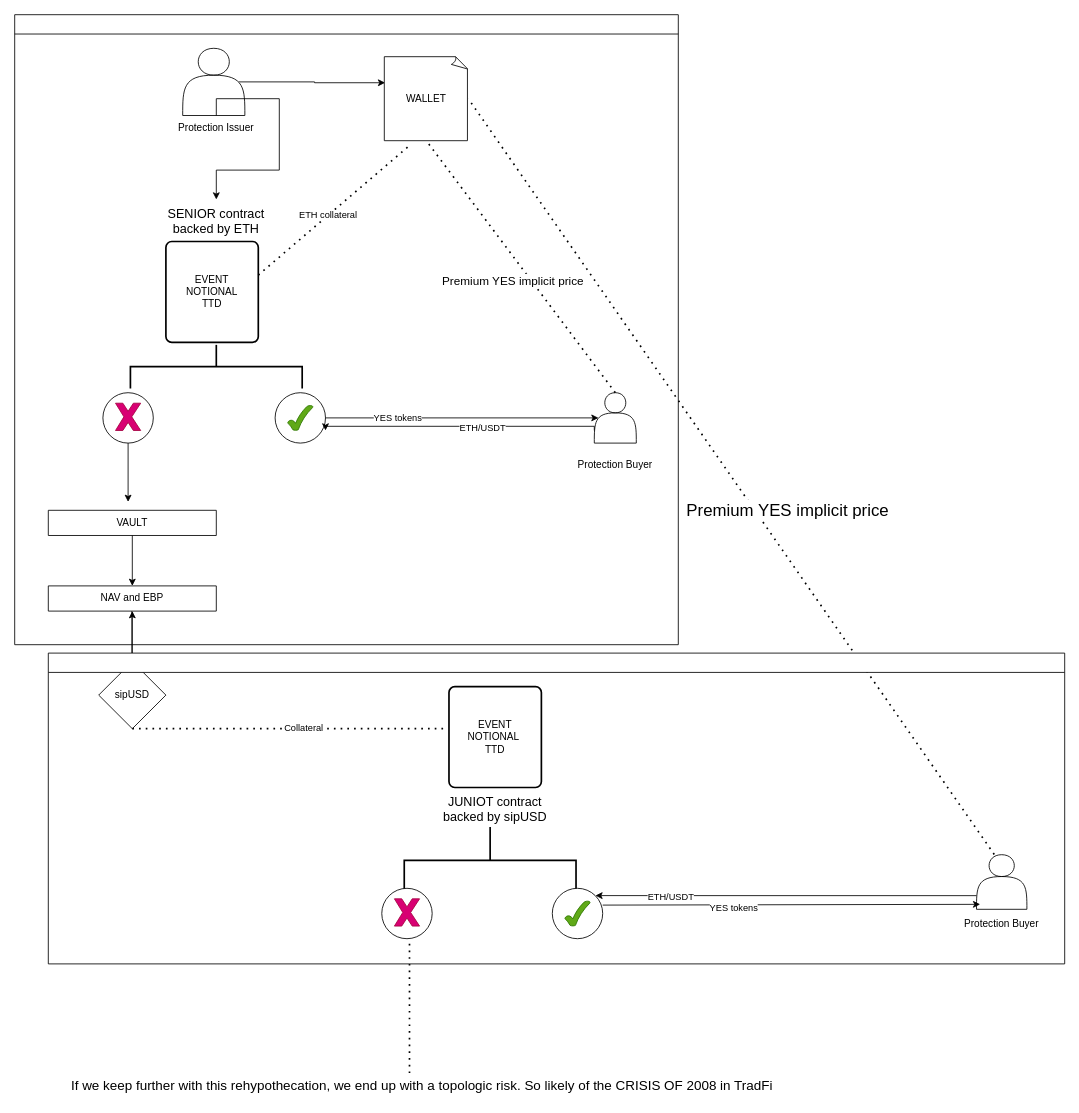
Some shapes in this 1079 by 1113 pixel diagram are drawn without their labels. The box of each missing label's shape, as (x1, y1, x2, y2) in pixels:
JUNIOR TRANCHE: (47, 652, 1065, 964)
SENIOR TRANCHE: (14, 14, 678, 645)
